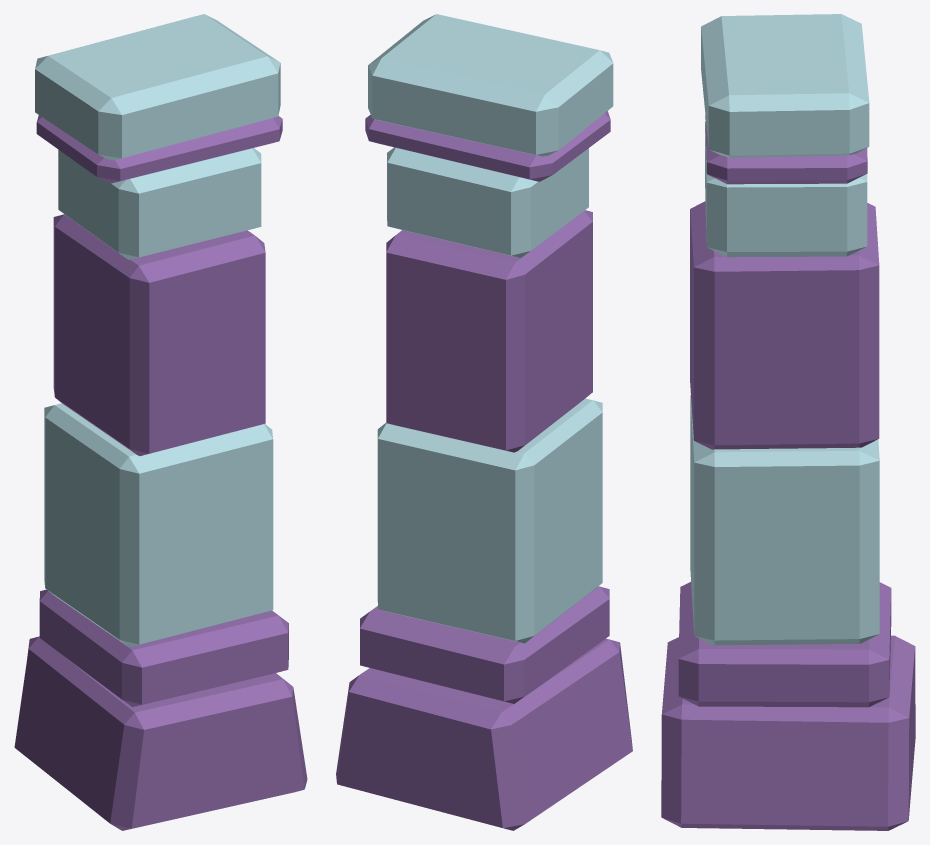
Rendered from SM_FenceMiddle.fbx.
3 renders of one model, left to right at view 1: azimuth 30°, elevation 25°; view 2: azimuth 150°, elevation 25°; view 3: azimuth 270°, elevation 25°, orthographic.
Visible parts, largest first — view 1: FenceMiddle; view 2: FenceMiddle; view 3: FenceMiddle.
Part boxes in pixels (x1,y1,x2,y2): FenceMiddle: (14, 14, 307, 830); FenceMiddle: (336, 14, 632, 830); FenceMiddle: (661, 14, 915, 830).
Bounding box in the file's own units: 40.09 × 138 × 43.54.
